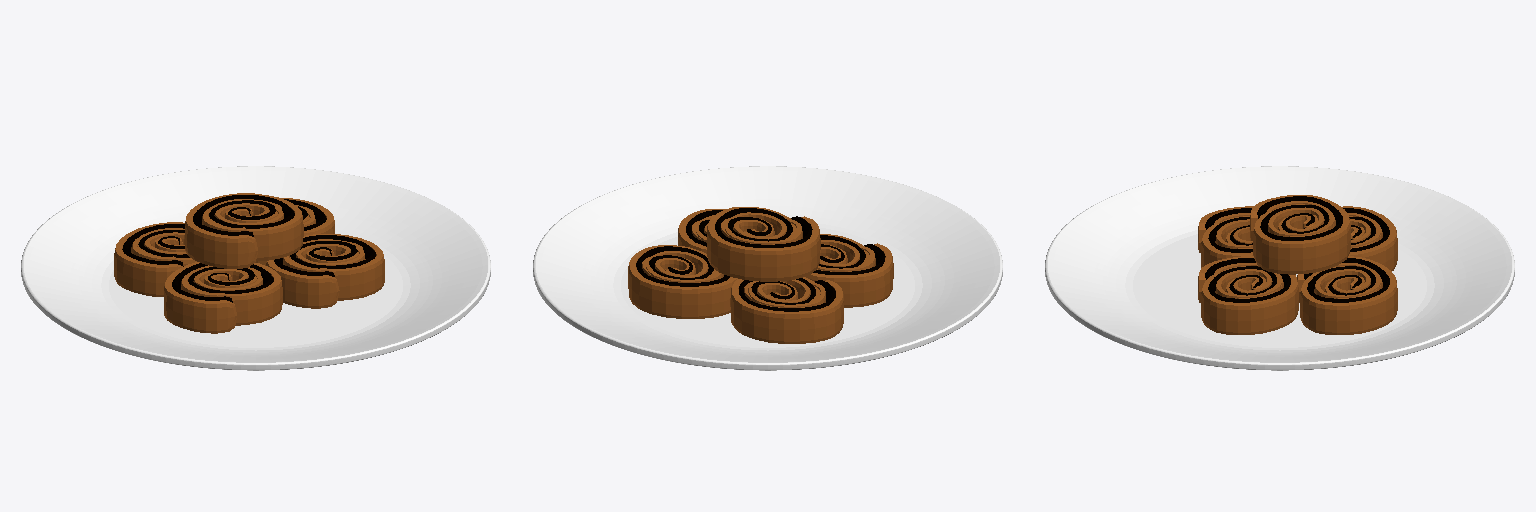
The model's file is CinnamonRoll_238.obj.
The picture shows the model from 3 angles: view 1: azimuth 30°, elevation 25°; view 2: azimuth 150°, elevation 25°; view 3: azimuth 270°, elevation 25°; orthographic projection.
Parts seen in each view (by area): view 1: ChamferCyl001, Line014, Line012, Line013, Line004, Line006; view 2: ChamferCyl001, Line014, Line004, Line006, Line012, Line013; view 3: ChamferCyl001, Line014, Line013, Line006, Line012, Line004.
Boxes of the visible parts, x1,y1,x2,y2 form: ChamferCyl001: [21, 166, 490, 370]; Line014: [185, 193, 303, 268]; Line012: [164, 262, 282, 333]; Line013: [266, 234, 384, 308]; Line004: [114, 222, 196, 296]; Line006: [256, 197, 334, 265]; ChamferCyl001: [533, 166, 1002, 370]; Line014: [707, 207, 820, 281]; Line004: [730, 277, 843, 343]; Line006: [628, 245, 737, 318]; Line012: [806, 234, 893, 307]; Line013: [678, 209, 724, 253]; ChamferCyl001: [1045, 166, 1514, 370]; Line014: [1250, 195, 1350, 274]; Line013: [1198, 256, 1298, 334]; Line006: [1297, 256, 1397, 334]; Line012: [1198, 206, 1253, 267]; Line004: [1342, 206, 1397, 270].
Size of the model in its own units: 123 by 21.52 by 123.